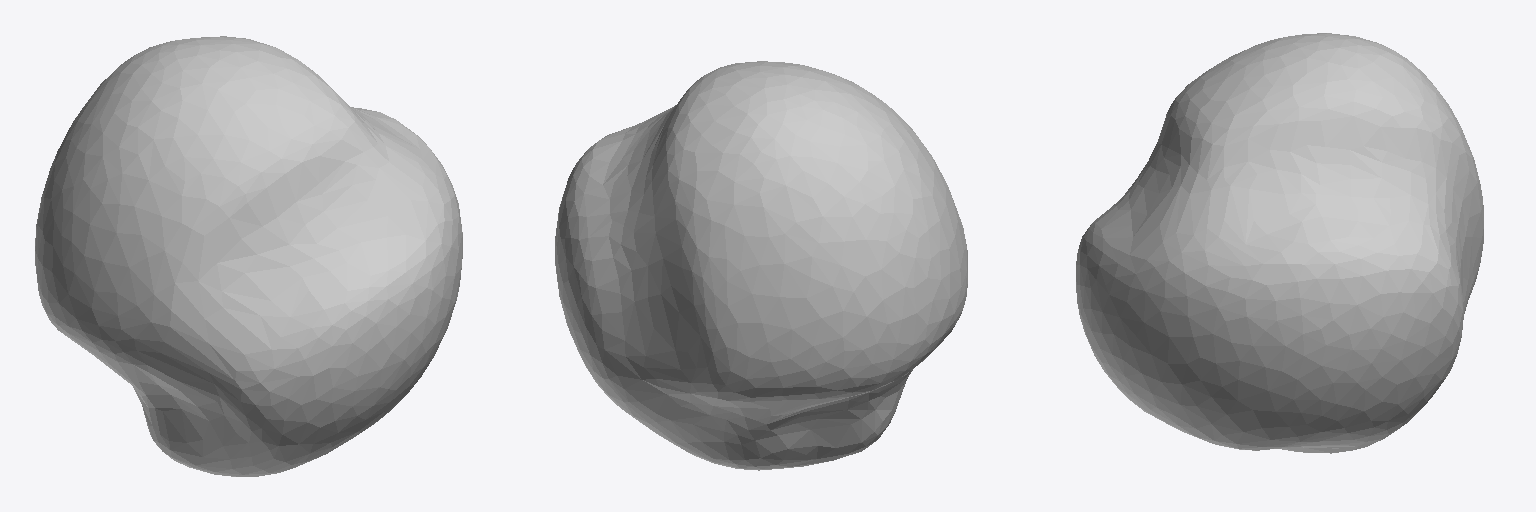
The model's file is moon_l.obj.
3 renders of one model, left to right at view 1: azimuth 30°, elevation 25°; view 2: azimuth 150°, elevation 25°; view 3: azimuth 270°, elevation 25°, orthographic.
Bounding box in the file's own units: 11.32 × 11.46 × 10.8.